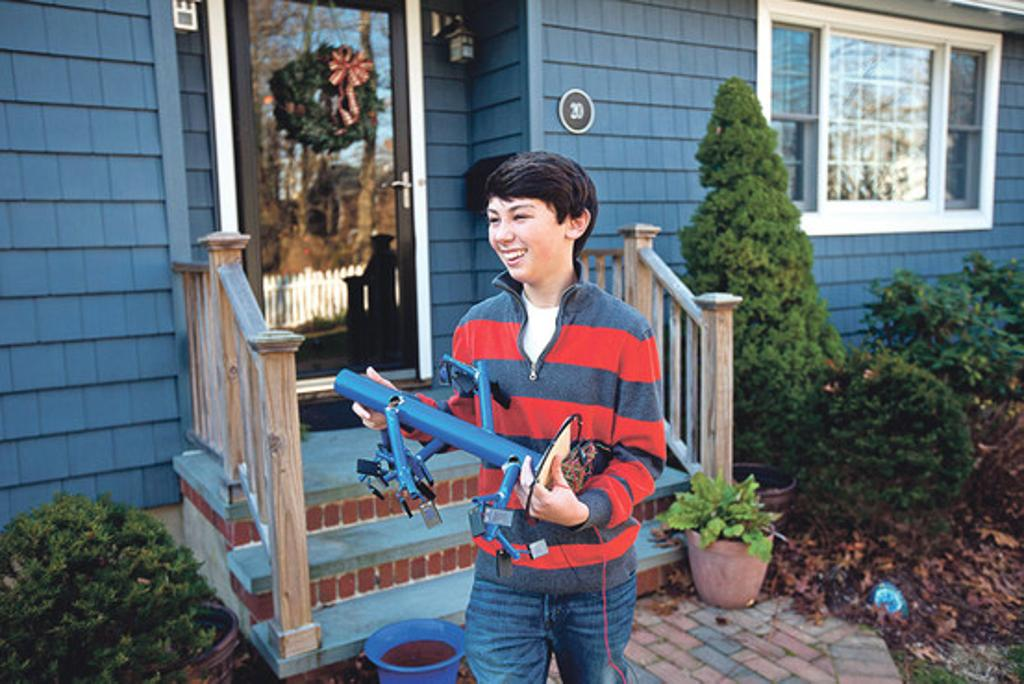face: (488, 190, 564, 280)
